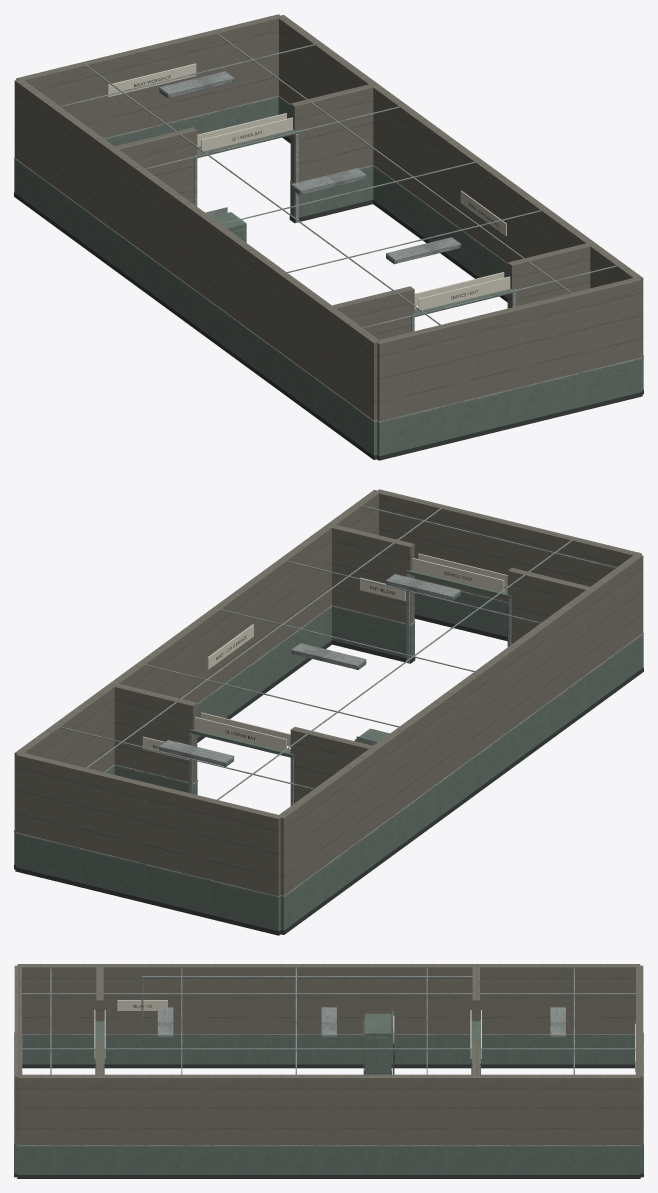
File: bench_workshop.glb
3 renders of one model, top to bottom at view 1: azimuth 30°, elevation 25°; view 2: azimuth 150°, elevation 25°; view 3: azimuth 270°, elevation 25°, orthographic. The views are drawn at different scales.
Parts seen in each view (by area): view 1: bench_workshop / power_plaster, bench_workshop / power_sage_enamel, bench_workshop / power_galvanized, bench_workshop / power_instrument_ivory, bench_workshop / power_blackened_steel; view 2: bench_workshop / power_plaster, bench_workshop / power_sage_enamel, bench_workshop / power_galvanized, bench_workshop / power_instrument_ivory, bench_workshop / power_blackened_steel; view 3: bench_workshop / power_plaster, bench_workshop / power_sage_enamel, bench_workshop / power_galvanized, bench_workshop / power_blackened_steel, bench_workshop / power_instrument_ivory.
Part boxes in pixels (x1,y1,x2,y2): bench_workshop / power_plaster: [14, 14, 643, 421]; bench_workshop / power_sage_enamel: [14, 80, 643, 455]; bench_workshop / power_galvanized: [14, 33, 643, 422]; bench_workshop / power_instrument_ivory: [107, 63, 510, 310]; bench_workshop / power_blackened_steel: [14, 75, 643, 460]; bench_workshop / power_plaster: [14, 489, 643, 896]; bench_workshop / power_sage_enamel: [14, 570, 643, 930]; bench_workshop / power_galvanized: [14, 505, 643, 897]; bench_workshop / power_instrument_ivory: [142, 553, 507, 760]; bench_workshop / power_blackened_steel: [14, 571, 643, 935]; bench_workshop / power_plaster: [14, 964, 643, 1144]; bench_workshop / power_sage_enamel: [14, 1013, 643, 1174]; bench_workshop / power_galvanized: [14, 967, 643, 1145]; bench_workshop / power_blackened_steel: [14, 1005, 643, 1178]; bench_workshop / power_instrument_ivory: [94, 1000, 635, 1071].
Bounding box in the file's own units: 8.26 × 3.41 × 19.26.
5 materials, 3 textured.
